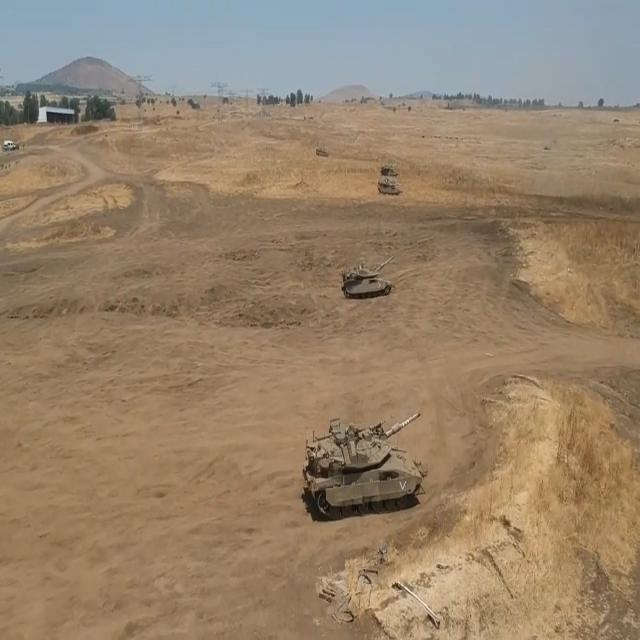tank: (302, 402, 429, 519), (334, 244, 402, 306), (313, 132, 335, 164), (376, 175, 402, 196), (380, 159, 395, 174)
